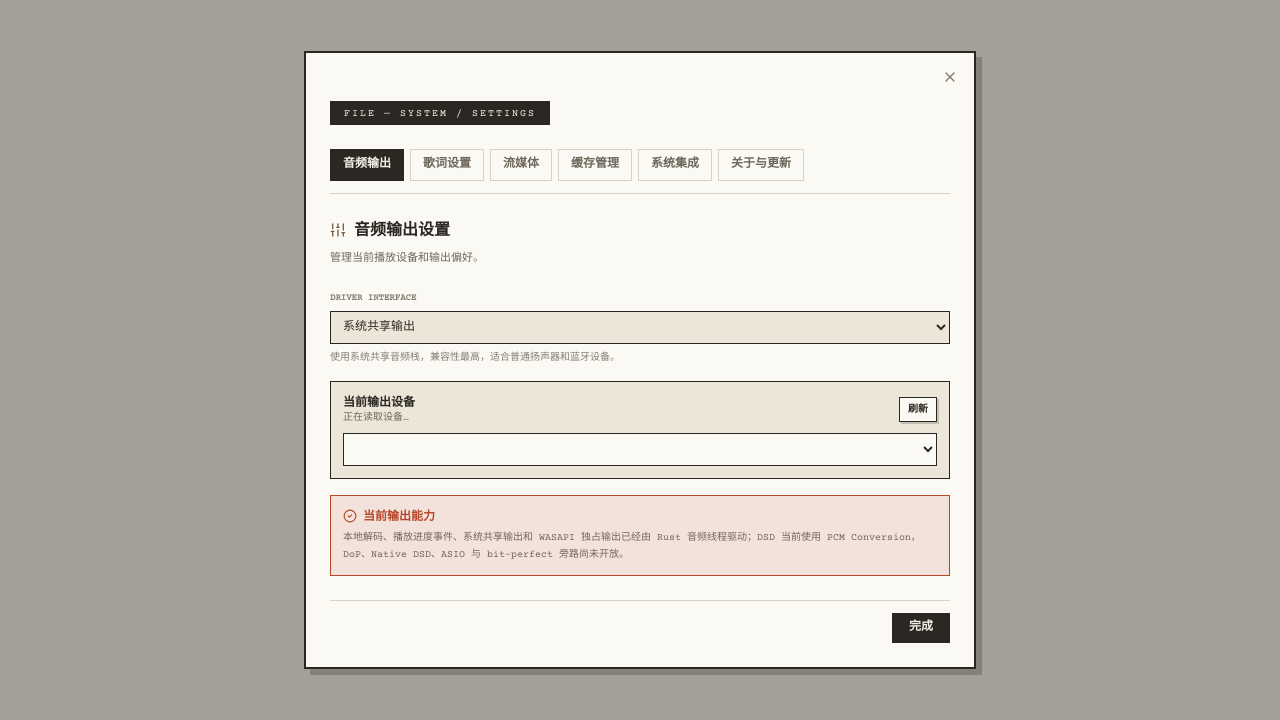
Scenario: 设置页（issues-2） › CACHE-01：缓存盘不可用时显示原因
The image size is (1280, 720).
Click the tab "缓存管理" at point(595, 165), box x1=558 y1=149 x2=632 y2=181
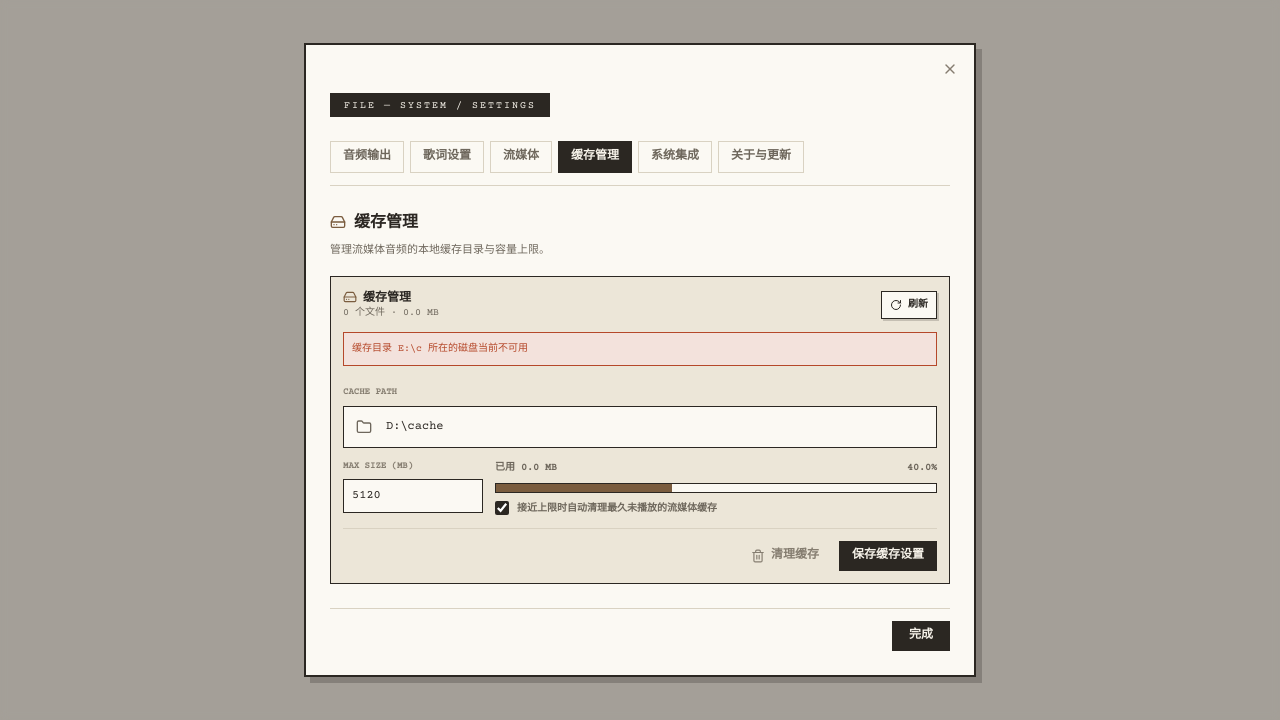
Now the message shows "所在的磁盘当前不可用", box x1=352 y1=343 x2=528 y2=354
